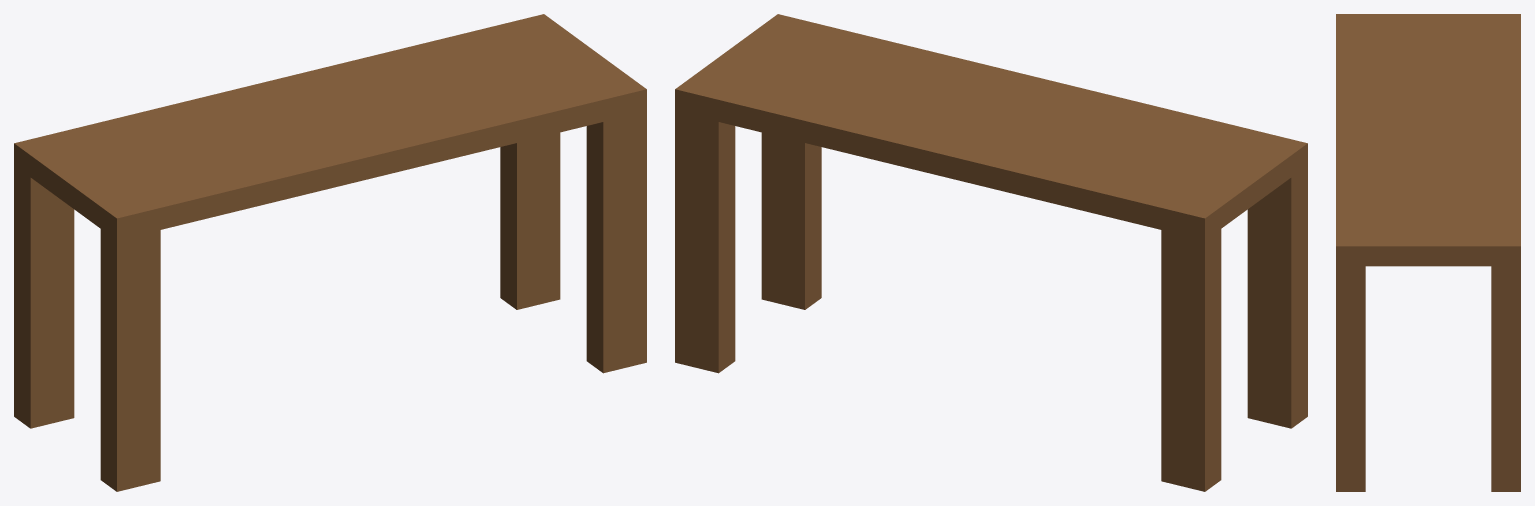
The model's file is Table.fbx.
3 renders of one model, left to right at view 1: azimuth 30°, elevation 25°; view 2: azimuth 150°, elevation 25°; view 3: azimuth 270°, elevation 25°, orthographic. The views are drawn at different scales.
Visible parts, largest first — view 1: Cube; view 2: Cube; view 3: Cube.
Part boxes in pixels (x1,y1,x2,y2): Cube: (14, 14, 646, 491); Cube: (675, 14, 1307, 491); Cube: (1336, 14, 1520, 491).
Bounding box in the file's own units: 595 × 294 × 200.
